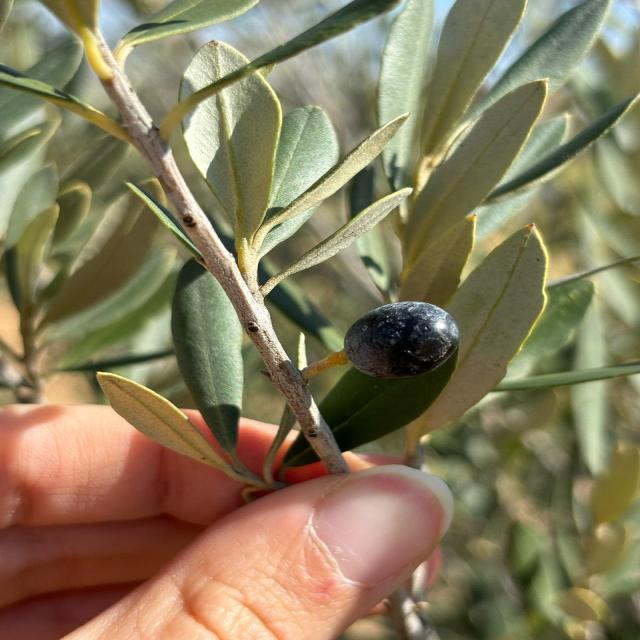Healthy: (403, 80, 547, 272), (97, 372, 257, 486), (171, 259, 243, 464), (342, 302, 459, 378)
